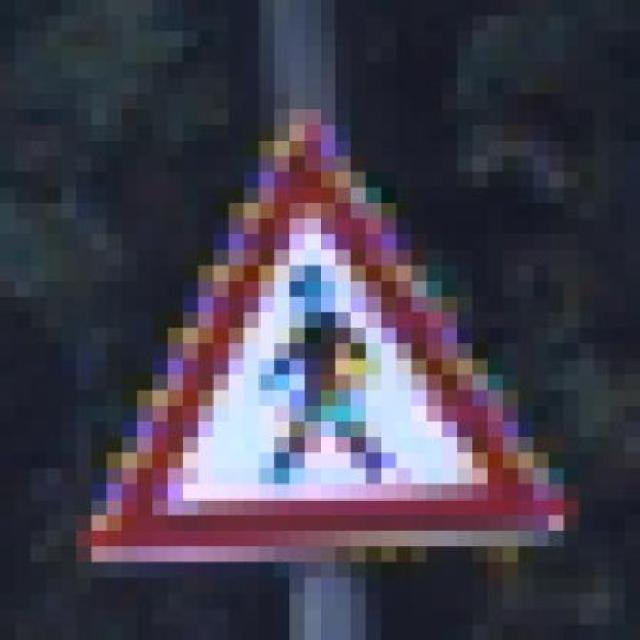Pedestrian Crossing: (52, 96, 586, 581)
